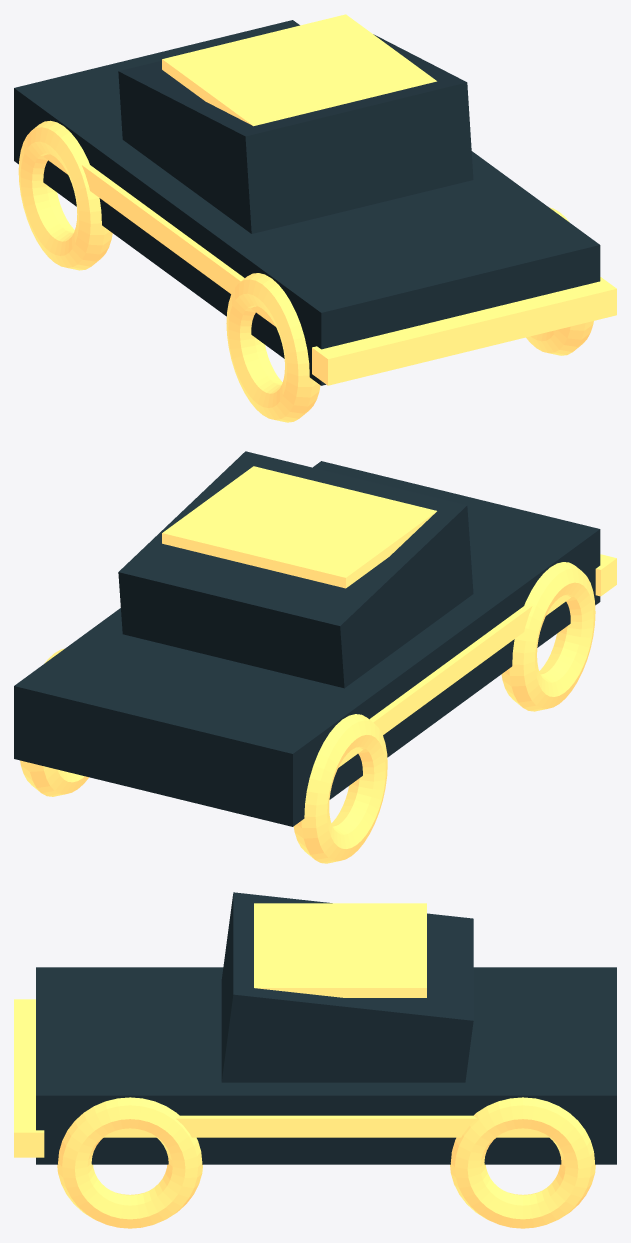
Rendered from security-runner.glb.
The picture shows the model from 3 angles, top to bottom: view 1: azimuth 30°, elevation 25°; view 2: azimuth 150°, elevation 25°; view 3: azimuth 270°, elevation 25°; orthographic projection. The views are drawn at different scales.
Parts seen in each view (by area): view 1: chassis, armored_cabin, roof_strip, front_bar, runner_wheel_0_1, runner_wheel_0_0, left_strip, runner_wheel_1_1; view 2: chassis, armored_cabin, roof_strip, runner_wheel_0_0, runner_wheel_0_1, left_strip, runner_wheel_1_0, front_bar; view 3: chassis, armored_cabin, roof_strip, runner_wheel_1_1, runner_wheel_1_0, right_strip, front_bar.
Boxes of the visible parts, x1,y1,x2,y2 form: chassis: (14,20,600,385); armored_cabin: (118,34,473,233); roof_strip: (162,14,436,126); front_bar: (312,277,616,385); runner_wheel_0_1: (226,273,320,422); runner_wheel_0_0: (18,120,112,270); left_strip: (43,154,275,326); runner_wheel_1_1: (526,207,593,355); chassis: (14,461,600,826); armored_cabin: (118,451,473,688); roof_strip: (162,466,436,588); runner_wheel_0_0: (293,714,387,863); runner_wheel_0_1: (501,562,595,711); left_strip: (338,595,570,767); runner_wheel_1_0: (20,648,88,796); front_bar: (595,554,616,596); chassis: (36,967,616,1164); armored_cabin: (221,892,473,1082); roof_strip: (254,903,426,997); runner_wheel_1_1: (57,1097,202,1228); runner_wheel_1_0: (450,1097,595,1228); right_strip: (103,1115,549,1137); front_bar: (14,999,44,1157).
Size of the model in its own units: 2.42 by 1.77 by 4.36.
